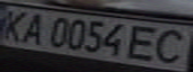0: (42, 15, 72, 49), (63, 16, 87, 52)
4: (100, 20, 133, 58)
5: (84, 18, 109, 55)
A: (15, 11, 51, 46)
C: (145, 26, 193, 66)
E: (121, 22, 169, 63)
K: (0, 8, 36, 43)
